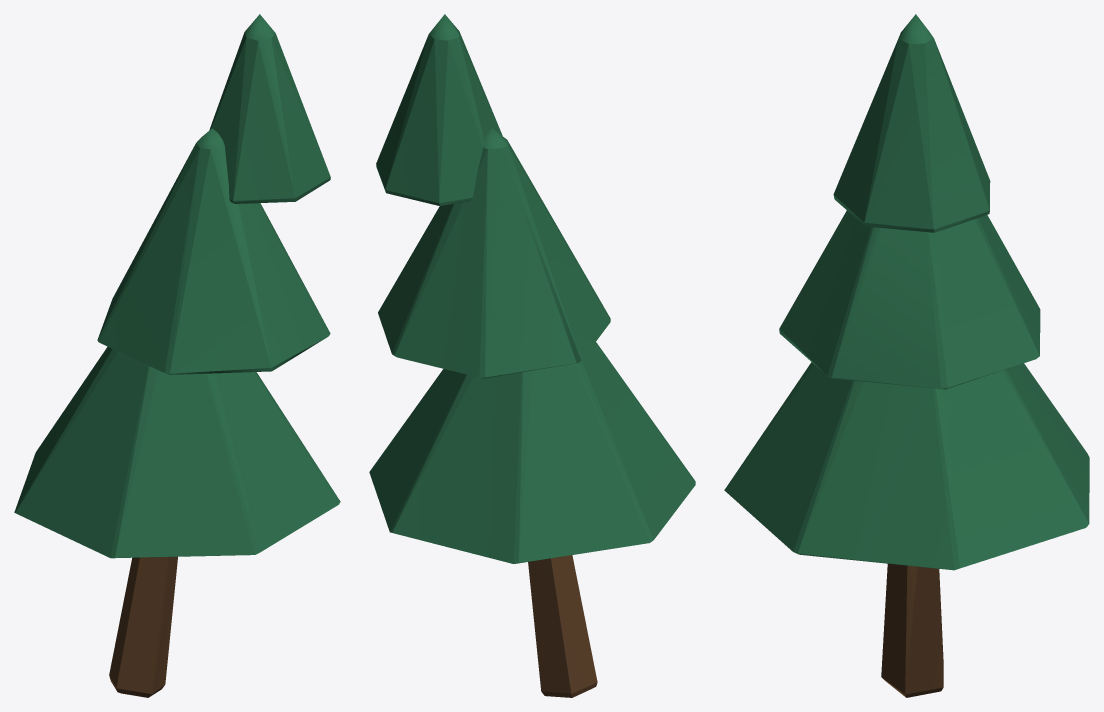
Rendered from prop_windpine_lod1.glb.
The picture shows the model from 3 angles, left to right: view 1: azimuth 30°, elevation 25°; view 2: azimuth 150°, elevation 25°; view 3: azimuth 270°, elevation 25°; orthographic projection. The views are drawn at different scales.
Parts seen in each view (by area): view 1: prop_windpine_lod1; view 2: prop_windpine_lod1; view 3: prop_windpine_lod1.
Boxes of the visible parts, left/top/right/bottom form: prop_windpine_lod1: left=14, top=14, right=340, bottom=697; prop_windpine_lod1: left=369, top=14, right=695, bottom=697; prop_windpine_lod1: left=724, top=14, right=1089, bottom=697.
Size of the model in its own units: 1.93 by 4.15 by 1.86.
